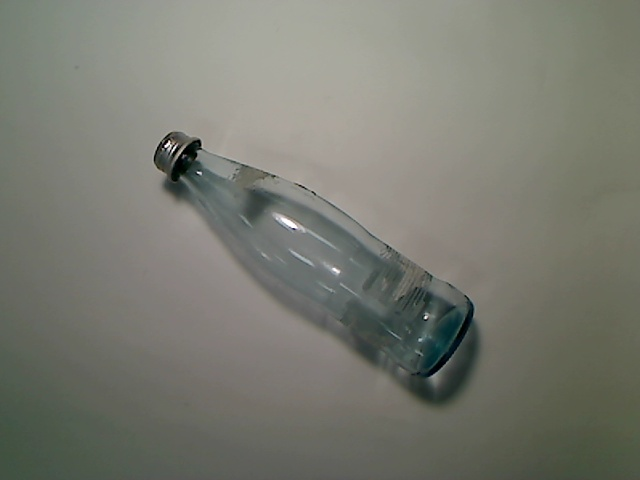bottle: (152, 129, 474, 379)
